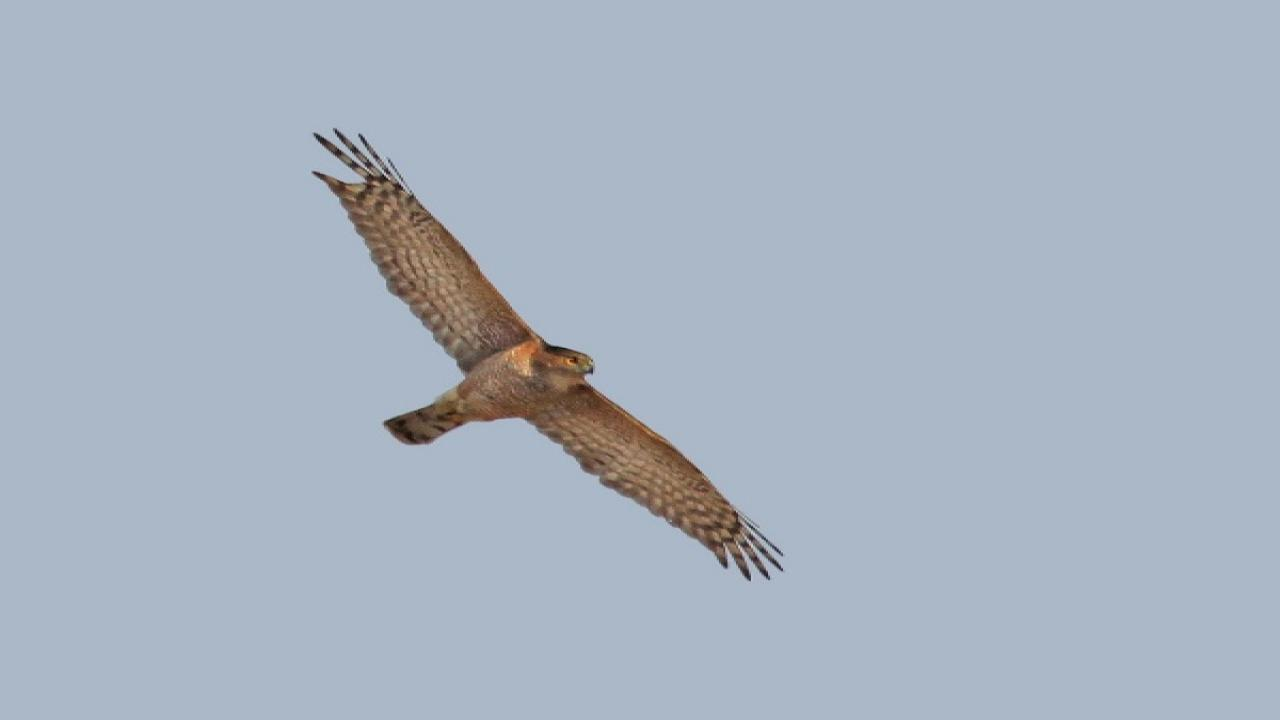Bird: (288, 116, 797, 590)
